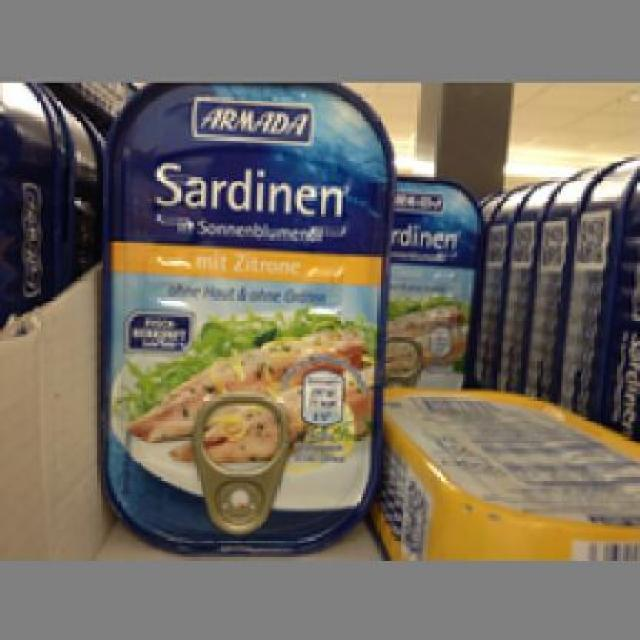Fish: (102, 82, 395, 548), (368, 380, 634, 560)
